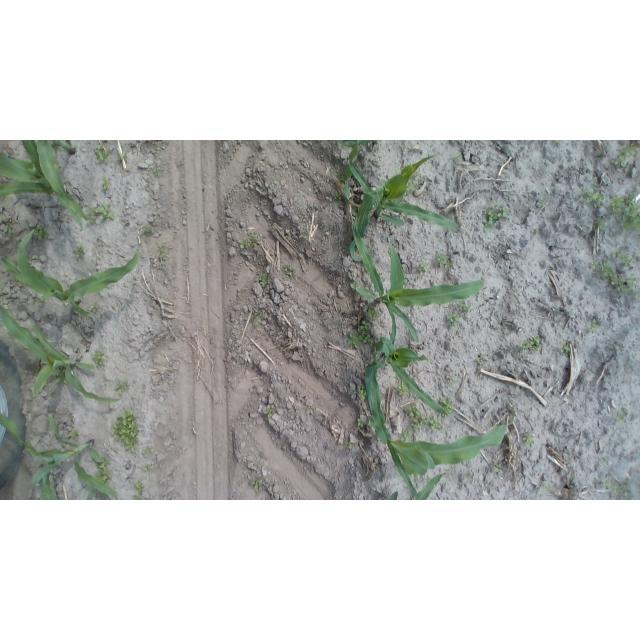Maize: (350, 207, 487, 346), (361, 393, 516, 497), (1, 300, 124, 404), (0, 231, 140, 319), (342, 147, 460, 249), (1, 410, 122, 500), (370, 327, 456, 439), (1, 140, 92, 226), (339, 140, 375, 204), (413, 472, 445, 500), (51, 140, 78, 156)
Weeds: (596, 262, 637, 295), (112, 407, 140, 453), (610, 192, 639, 233), (403, 404, 439, 433), (603, 269, 637, 296), (483, 204, 510, 232), (612, 143, 637, 170), (85, 203, 116, 224), (416, 474, 442, 498), (95, 457, 113, 484), (517, 335, 541, 353), (582, 187, 603, 206), (238, 234, 261, 250), (613, 249, 634, 266), (438, 396, 456, 415), (426, 412, 445, 430), (613, 481, 632, 499), (93, 144, 111, 163), (437, 252, 454, 269), (32, 224, 49, 241), (359, 326, 374, 344), (92, 351, 108, 367), (115, 379, 130, 395), (458, 300, 473, 315), (359, 321, 374, 336), (445, 313, 459, 329), (588, 318, 602, 334), (400, 426, 414, 442), (347, 332, 360, 349), (54, 371, 69, 385), (525, 432, 536, 451), (359, 383, 370, 401), (367, 307, 381, 321), (337, 168, 351, 182), (74, 245, 87, 260), (258, 273, 271, 288), (2, 219, 14, 235), (614, 409, 627, 423), (252, 313, 264, 327), (396, 382, 408, 396), (101, 177, 112, 192), (283, 266, 297, 277), (249, 479, 263, 490), (157, 245, 167, 260), (416, 262, 428, 274), (141, 447, 154, 458), (594, 219, 607, 230), (591, 260, 604, 271), (263, 407, 276, 418), (69, 429, 80, 442), (143, 225, 157, 235), (406, 179, 416, 193), (135, 480, 146, 492), (561, 342, 571, 355), (537, 198, 548, 209), (152, 165, 162, 177), (447, 376, 459, 386), (463, 471, 475, 481), (491, 463, 501, 474), (395, 196, 408, 204), (541, 483, 551, 493), (90, 303, 100, 313), (334, 190, 344, 200), (600, 455, 610, 465), (258, 451, 267, 460), (118, 152, 127, 161), (602, 479, 611, 488), (346, 442, 355, 451), (475, 356, 483, 366), (142, 464, 152, 472), (357, 418, 365, 428), (454, 153, 462, 162), (350, 282, 358, 291), (300, 233, 308, 240), (30, 298, 39, 304), (553, 140, 562, 146), (133, 495, 143, 500)
